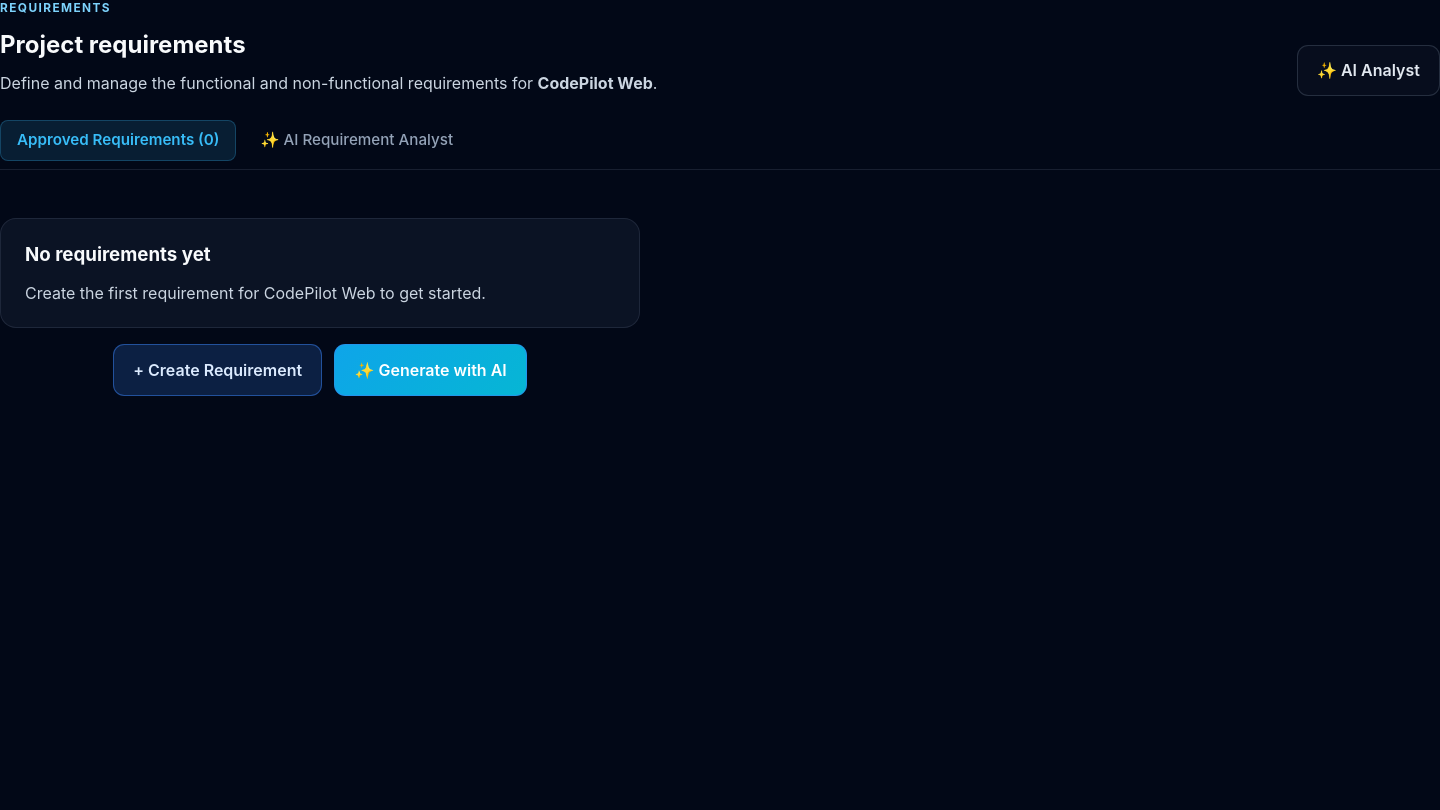
Test: RequirementsPage › successfully creates a requirement and refreshes the list
Click the button "+ Create Requirement" at (218, 370), box [113,344,322,396]
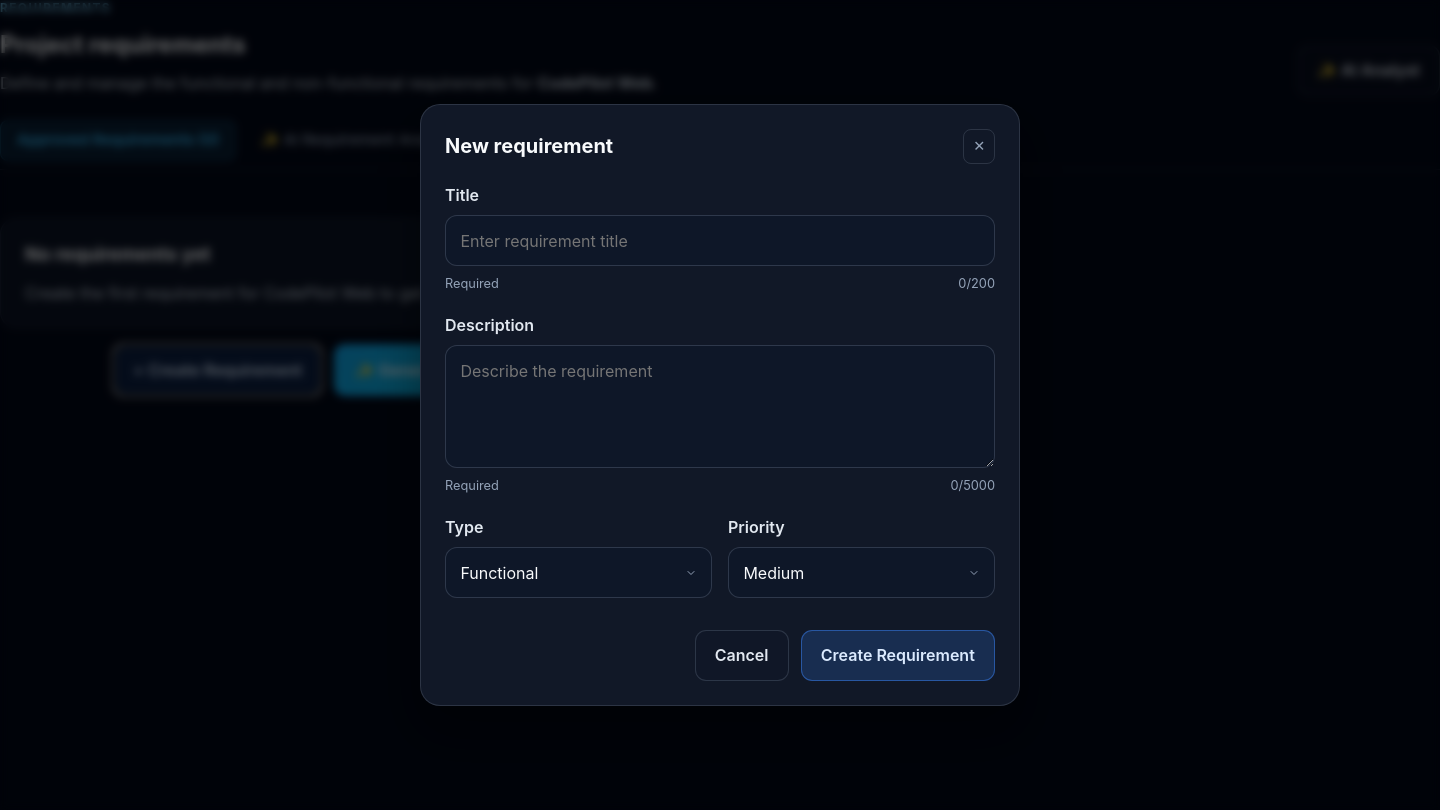
Type "Database connection pooling" into the field labelled "Title" at (720, 241), box [445,215,995,266]
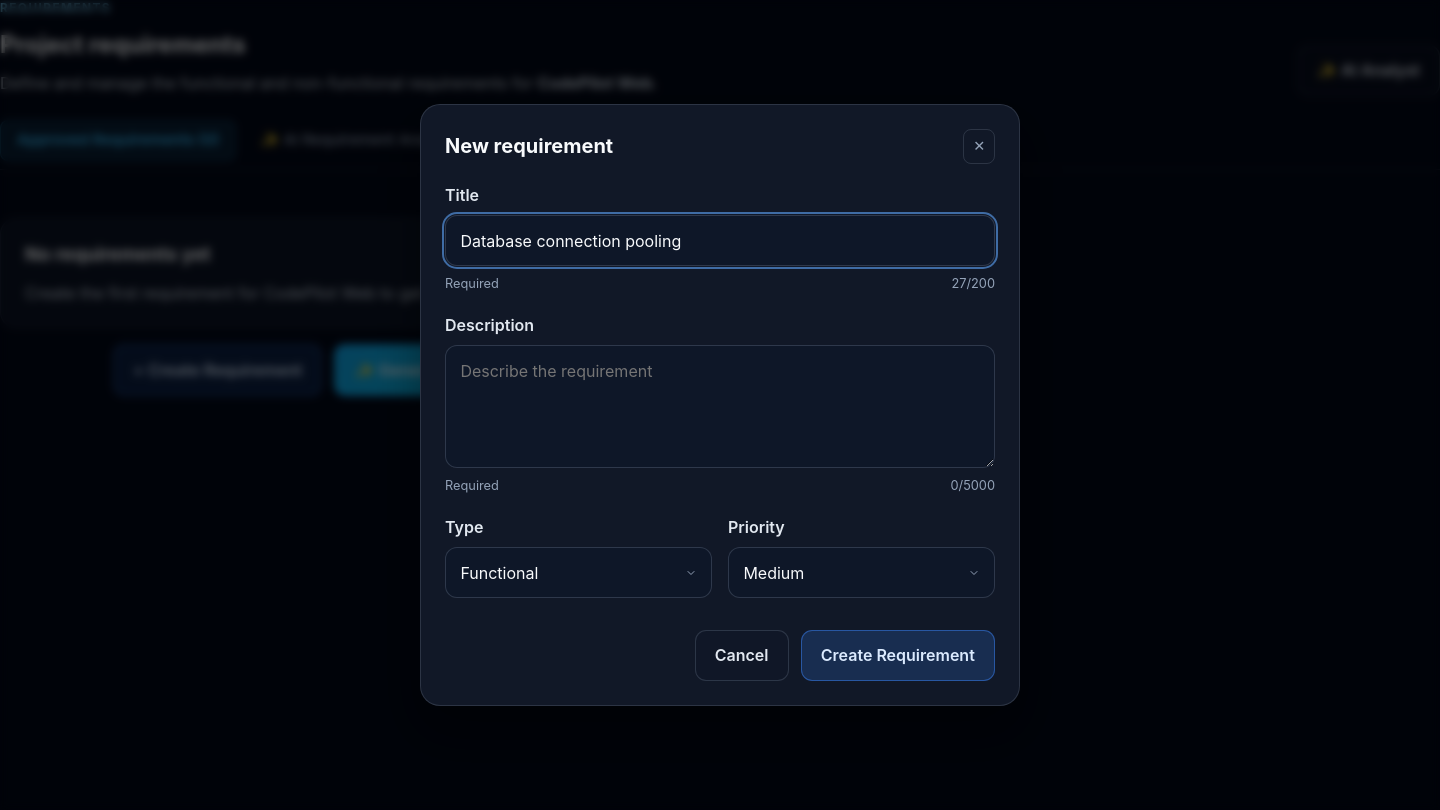
Type "Configure HikariCP connection pool with maximum 20 connections." into the text box labelled "Description" at (720, 407), box [445,345,995,468]
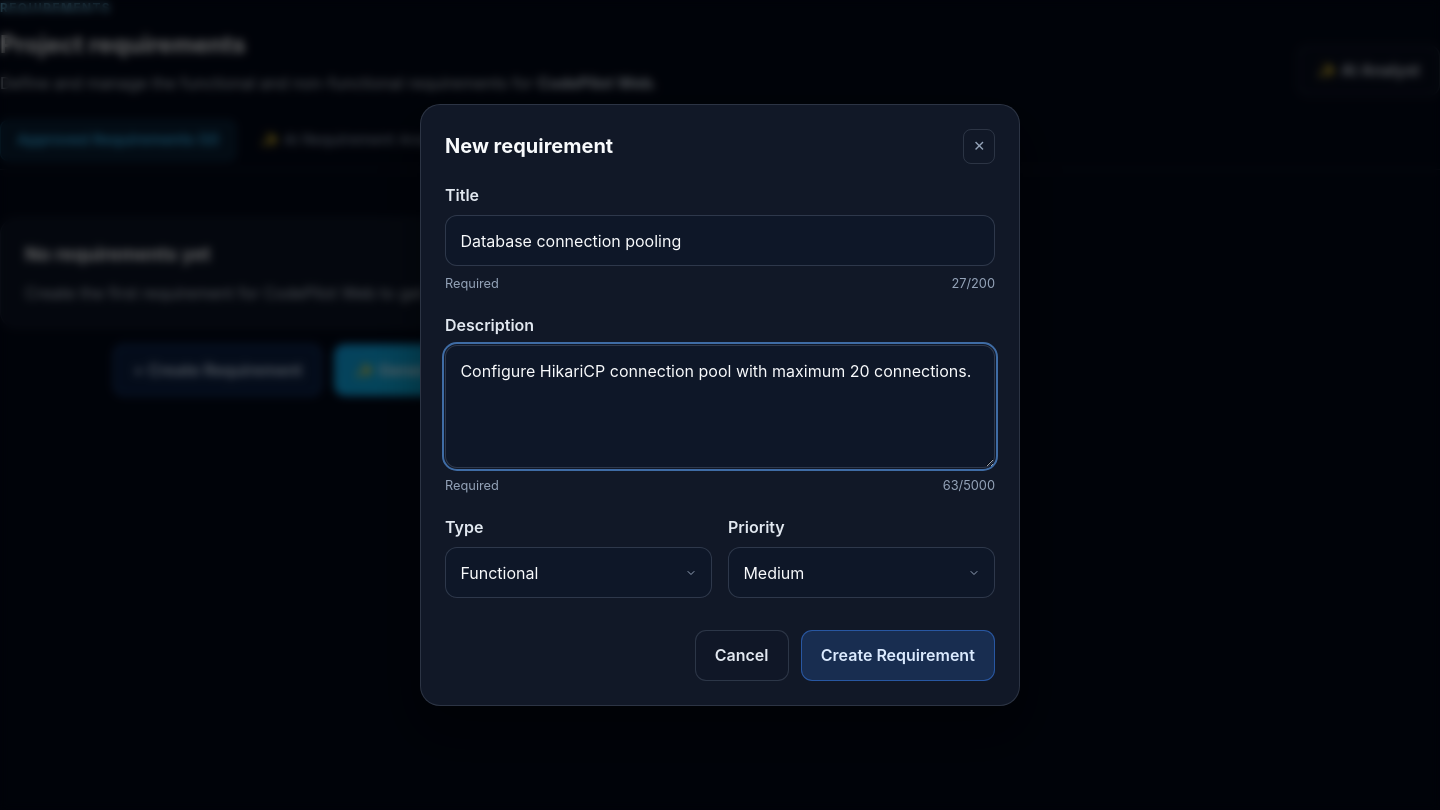
Select "Non-functional" in the dropdown labelled "Type" at (578, 573), box [445,547,712,598]
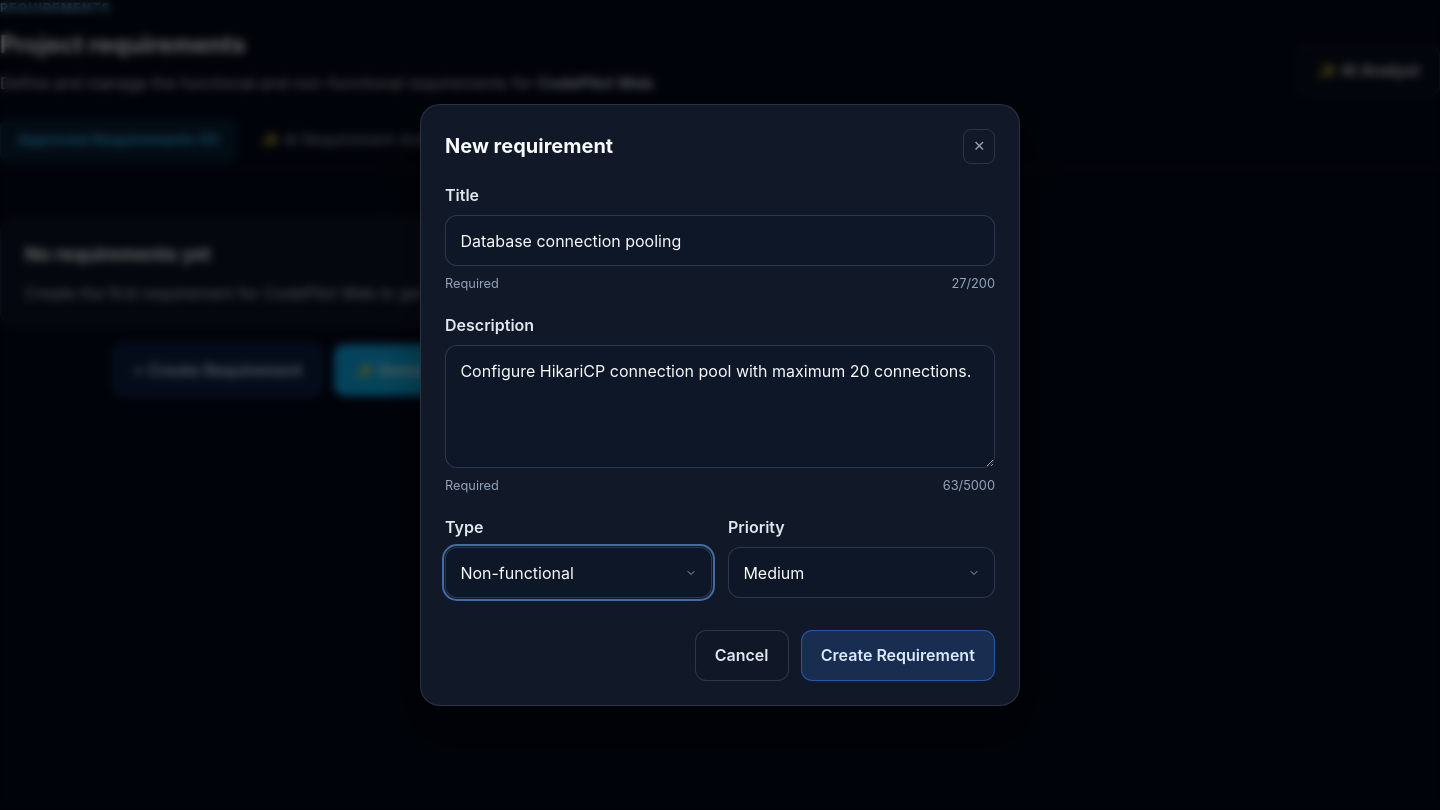
Select "High" in the dropdown labelled "Priority" at (862, 573), box [728,547,995,598]
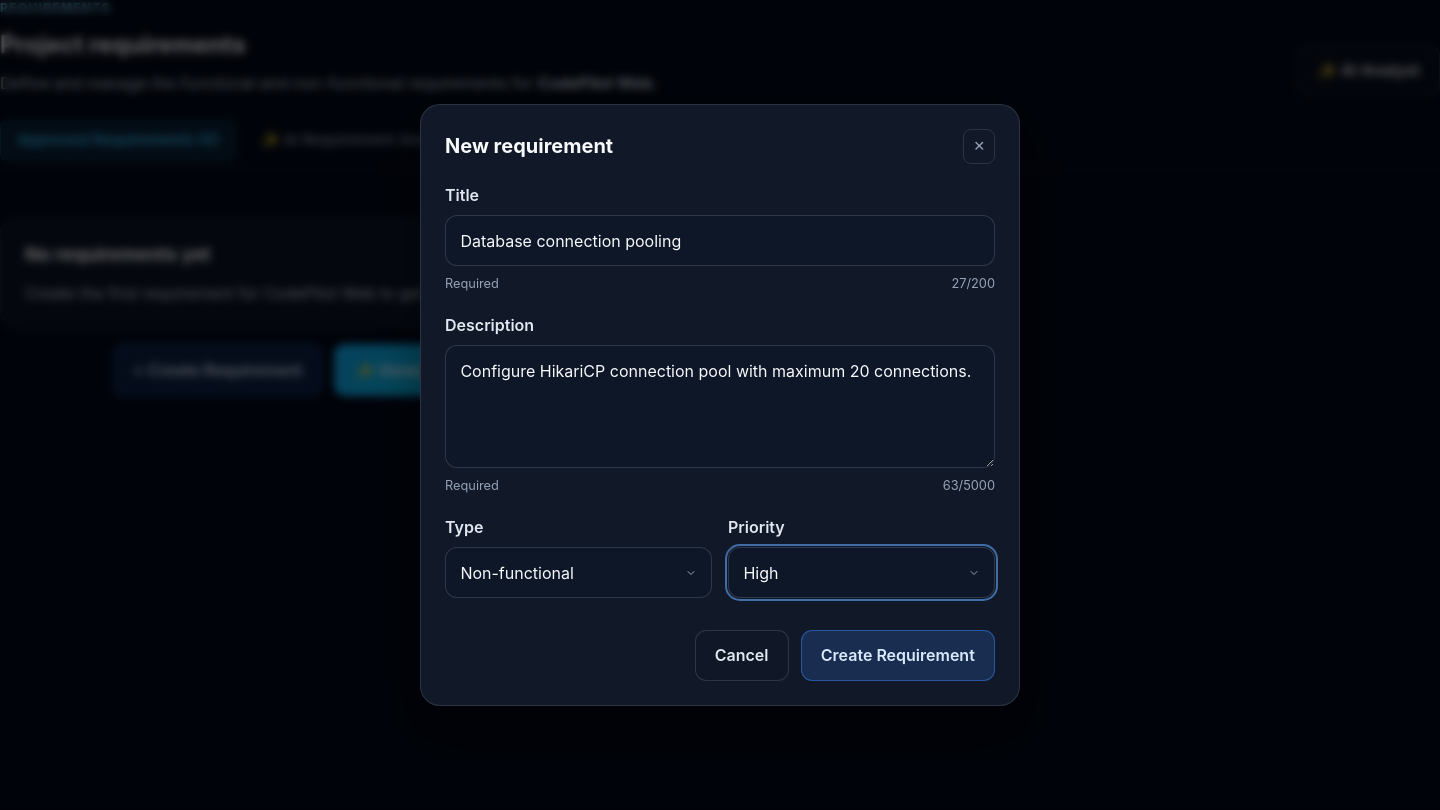
Click the button "Create Requirement" at (898, 655), box [801,630,995,681]
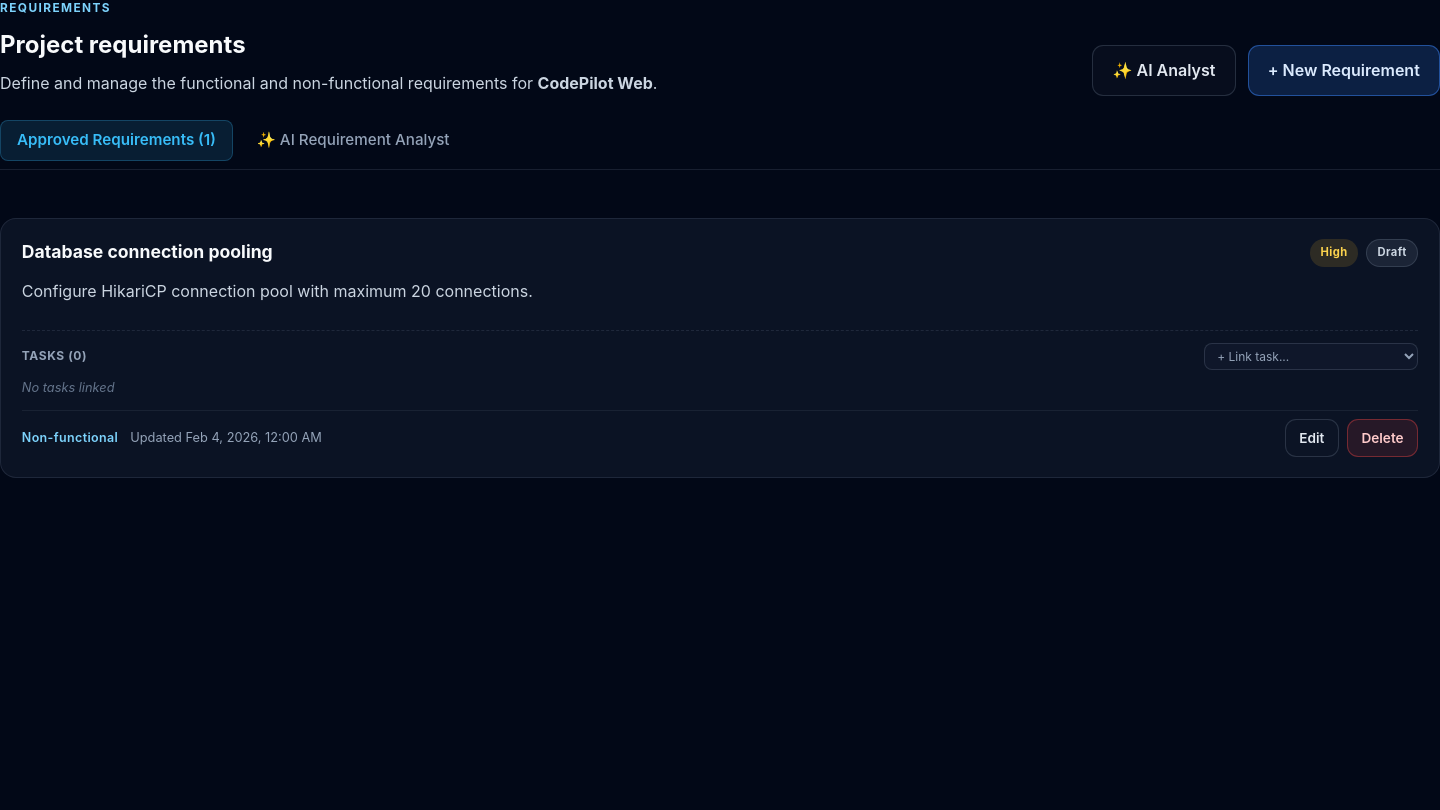
Expected: the heading "Database connection pooling" is shown, [22,241,273,262]
Expected: the dialog is gone
